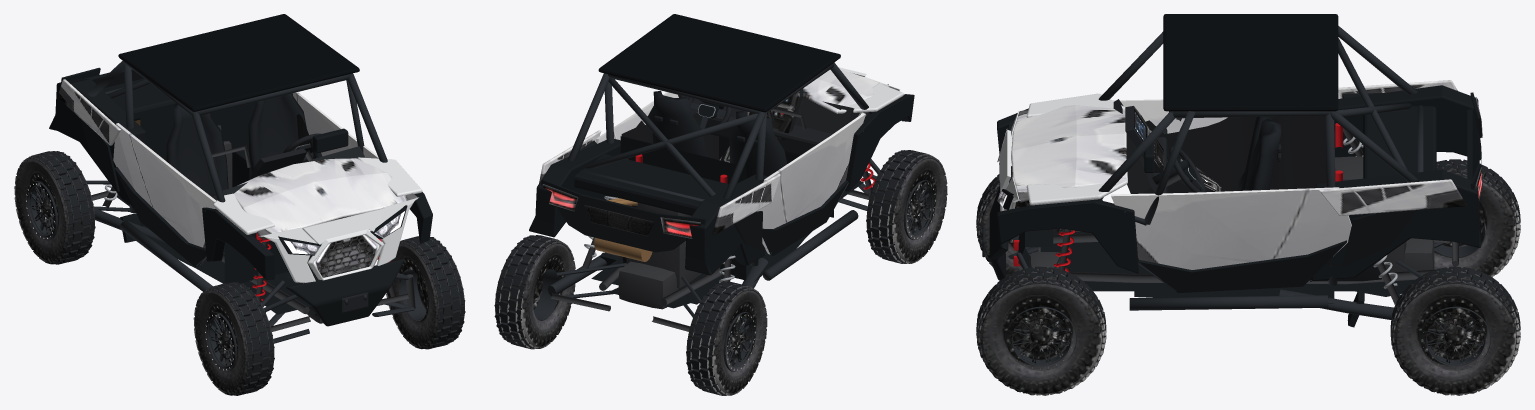
Rendered from rzr-white-black-two-seat.glb.
3 views of the same model, side by side, from view 1: azimuth 30°, elevation 25°; view 2: azimuth 150°, elevation 25°; view 3: azimuth 270°, elevation 25° (orthographic). The views are drawn at different scales.
Parts seen in each view (by area): view 1: rzr_two_seat_body, wheel_FR, wheel_RR, wheel_FL; view 2: rzr_two_seat_body, wheel_RR, wheel_FR, wheel_RL, driver_steering; view 3: rzr_two_seat_body, wheel_RL, wheel_FL, wheel_RR, wheel_FR, driver_steering.
Boxes of the visible parts, x1,y1,x2,y2 form: rzr_two_seat_body: [49, 14, 432, 343]; wheel_FR: [193, 282, 274, 395]; wheel_RR: [14, 151, 95, 264]; wheel_FL: [386, 236, 465, 349]; rzr_two_seat_body: [529, 14, 914, 331]; wheel_RR: [686, 281, 767, 395]; wheel_FR: [866, 150, 947, 263]; wheel_RL: [494, 235, 575, 349]; driver_steering: [688, 97, 731, 129]; rzr_two_seat_body: [980, 14, 1482, 327]; wheel_RL: [1390, 266, 1520, 395]; wheel_FL: [976, 266, 1106, 395]; wheel_RR: [1434, 159, 1520, 277]; wheel_FR: [976, 166, 1102, 276]; driver_steering: [1169, 146, 1205, 192].
Size of the model in its own units: 1.89 by 1.95 by 3.48.
Materials: 24 (9 with a texture image).
